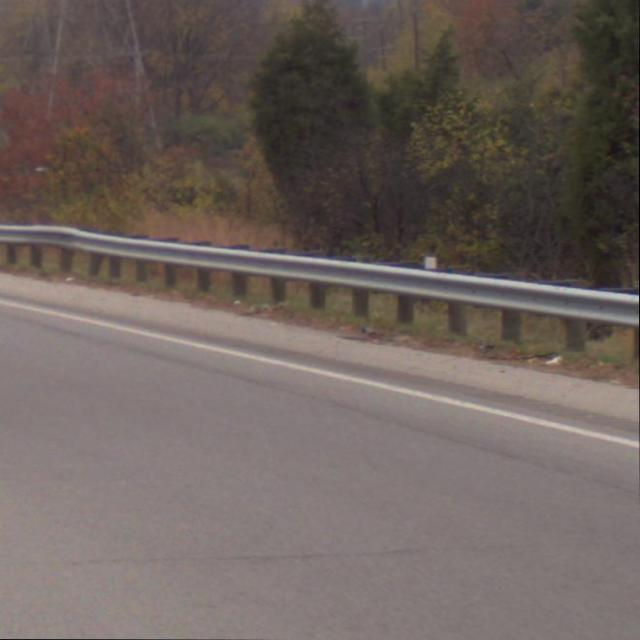Guard rail: (0, 219, 640, 362)
